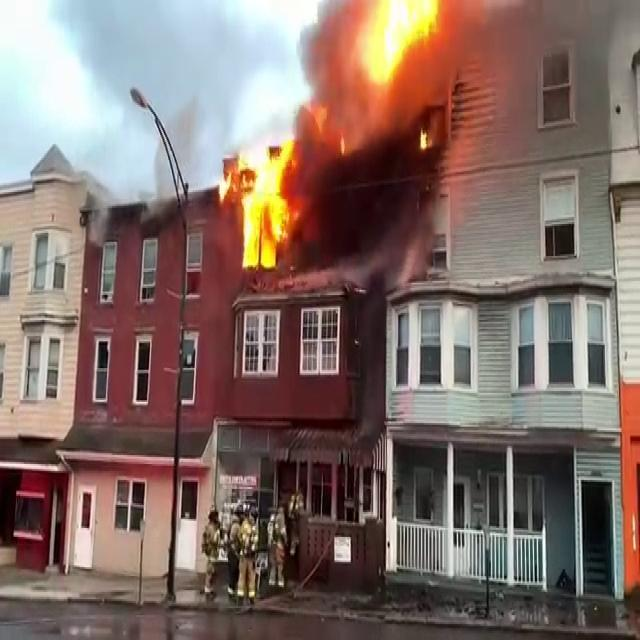Fire: (216, 130, 304, 274), (363, 0, 452, 87)
Smoke: (276, 3, 452, 268)
